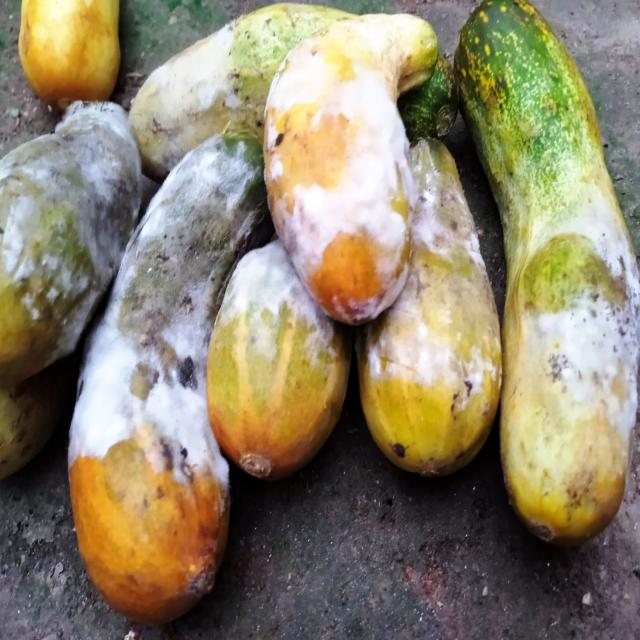Pythium-Fruit-Rot: (66, 128, 260, 492), (263, 33, 423, 314), (3, 96, 145, 361), (369, 142, 501, 394), (532, 201, 640, 436), (126, 24, 245, 172), (212, 225, 340, 355)
